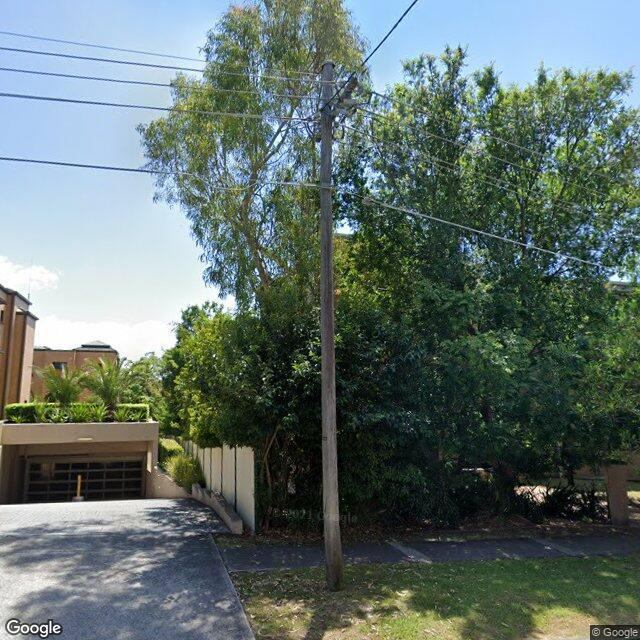crossarm: (329, 78, 358, 124)
timber-pole: (321, 62, 345, 590)
